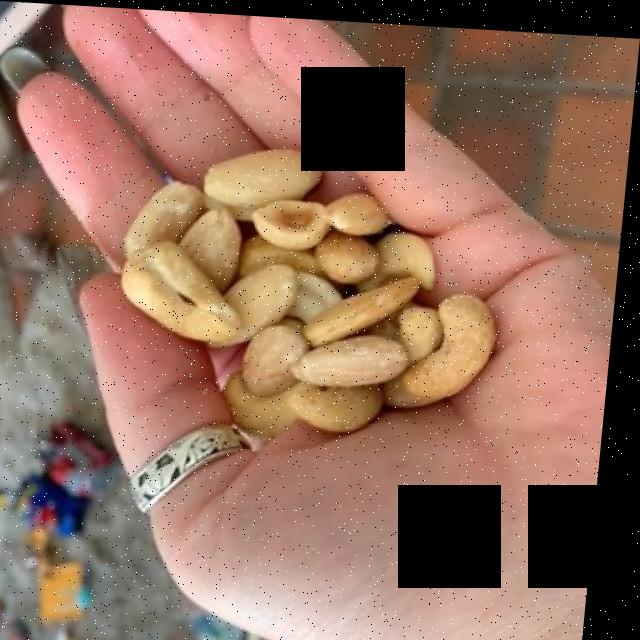mixed-nuts: (137, 145, 492, 431)
